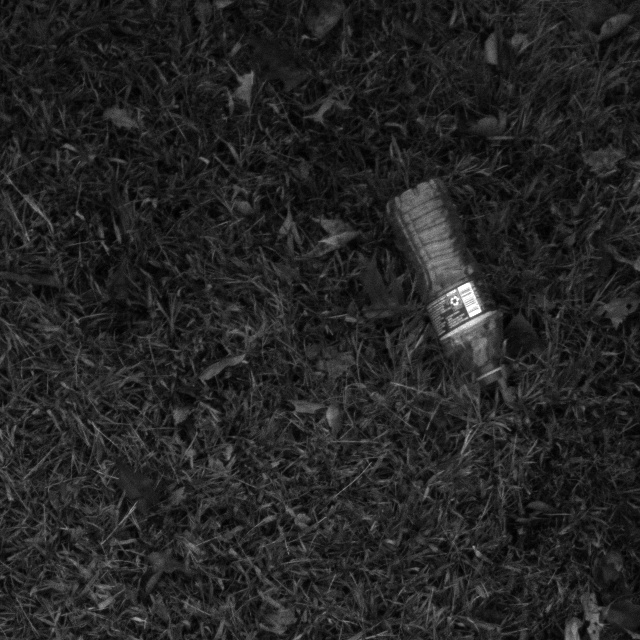bottle: (383, 178, 514, 392)
